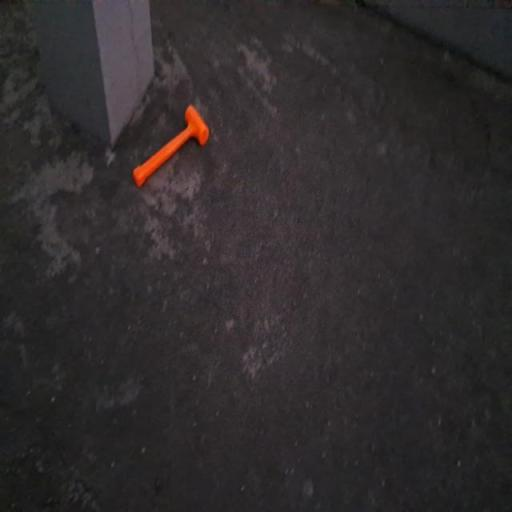mallet: (133, 104, 209, 187)
